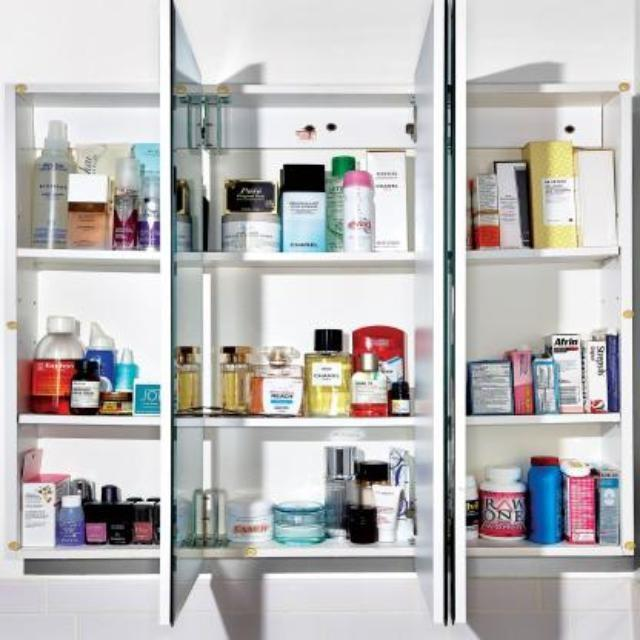Rak: (6, 86, 632, 554)
